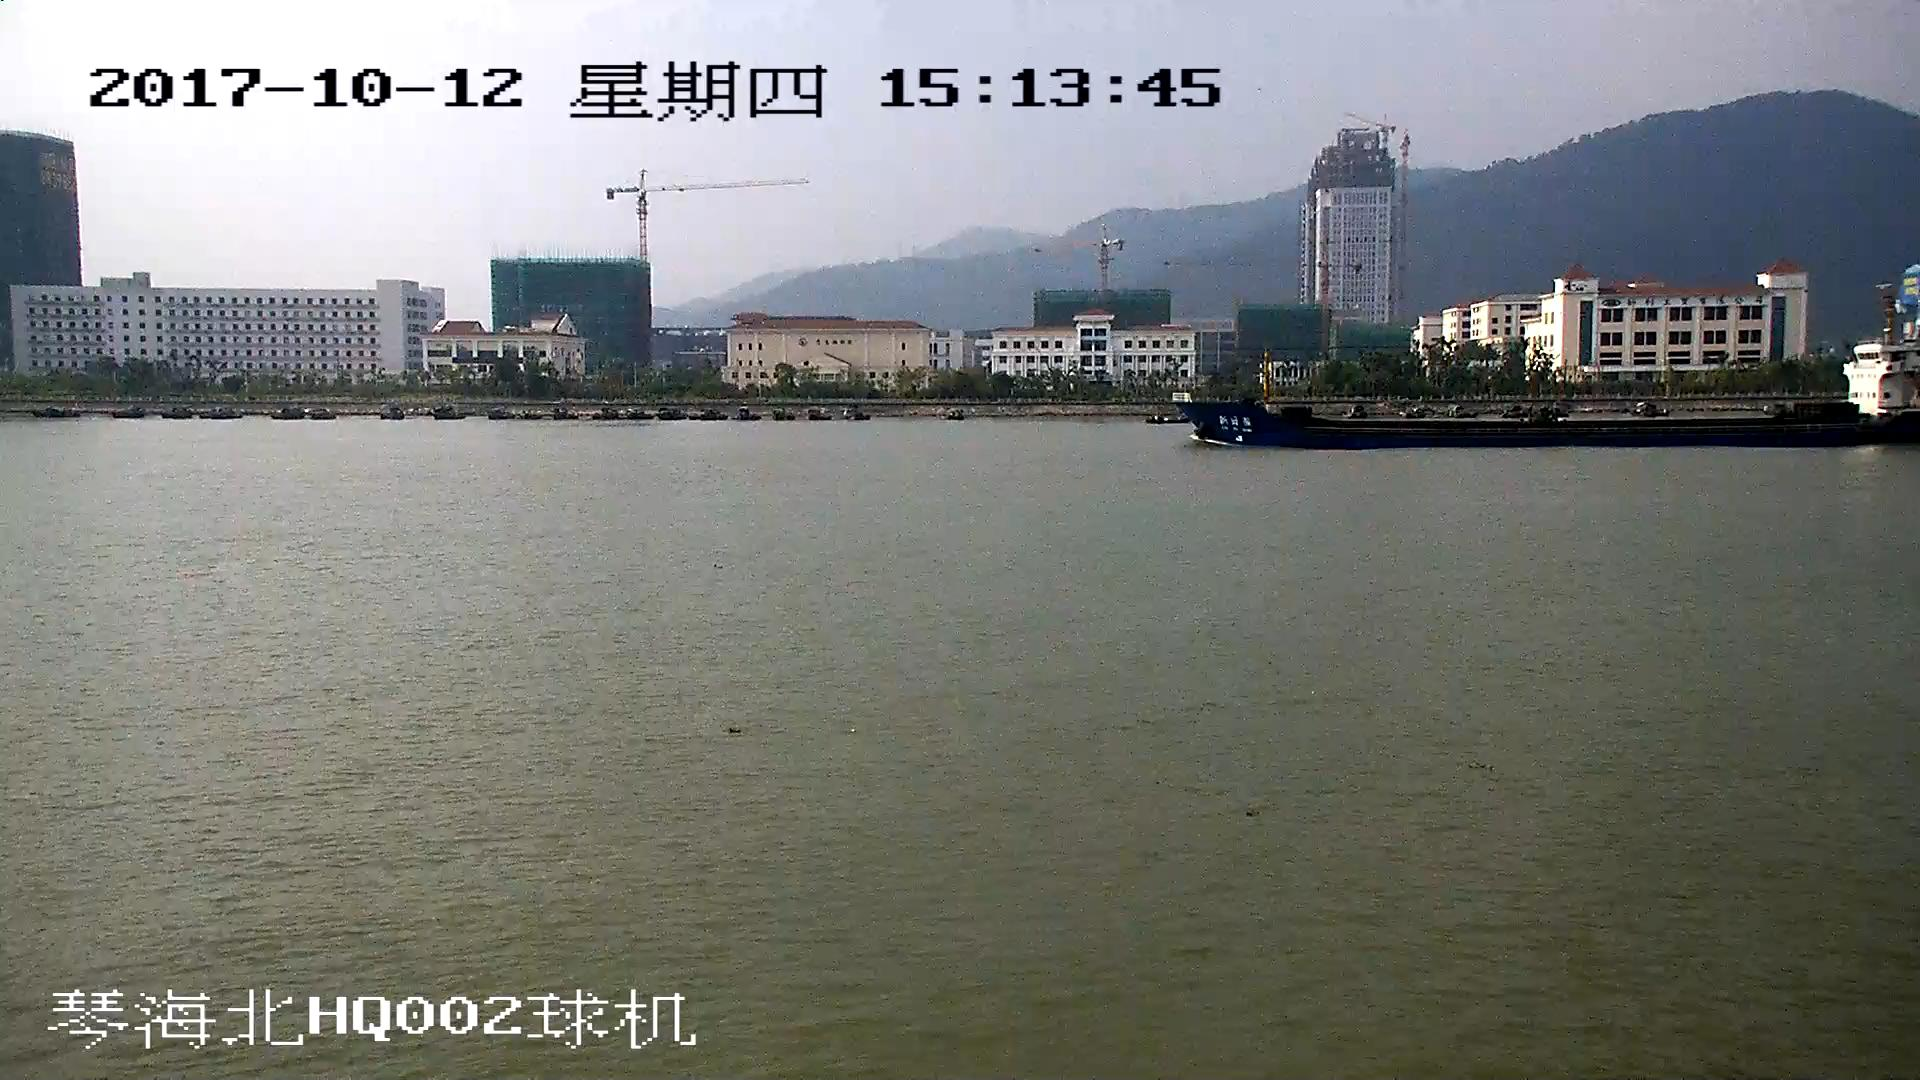general cargo ship: (1175, 334, 1920, 445)
